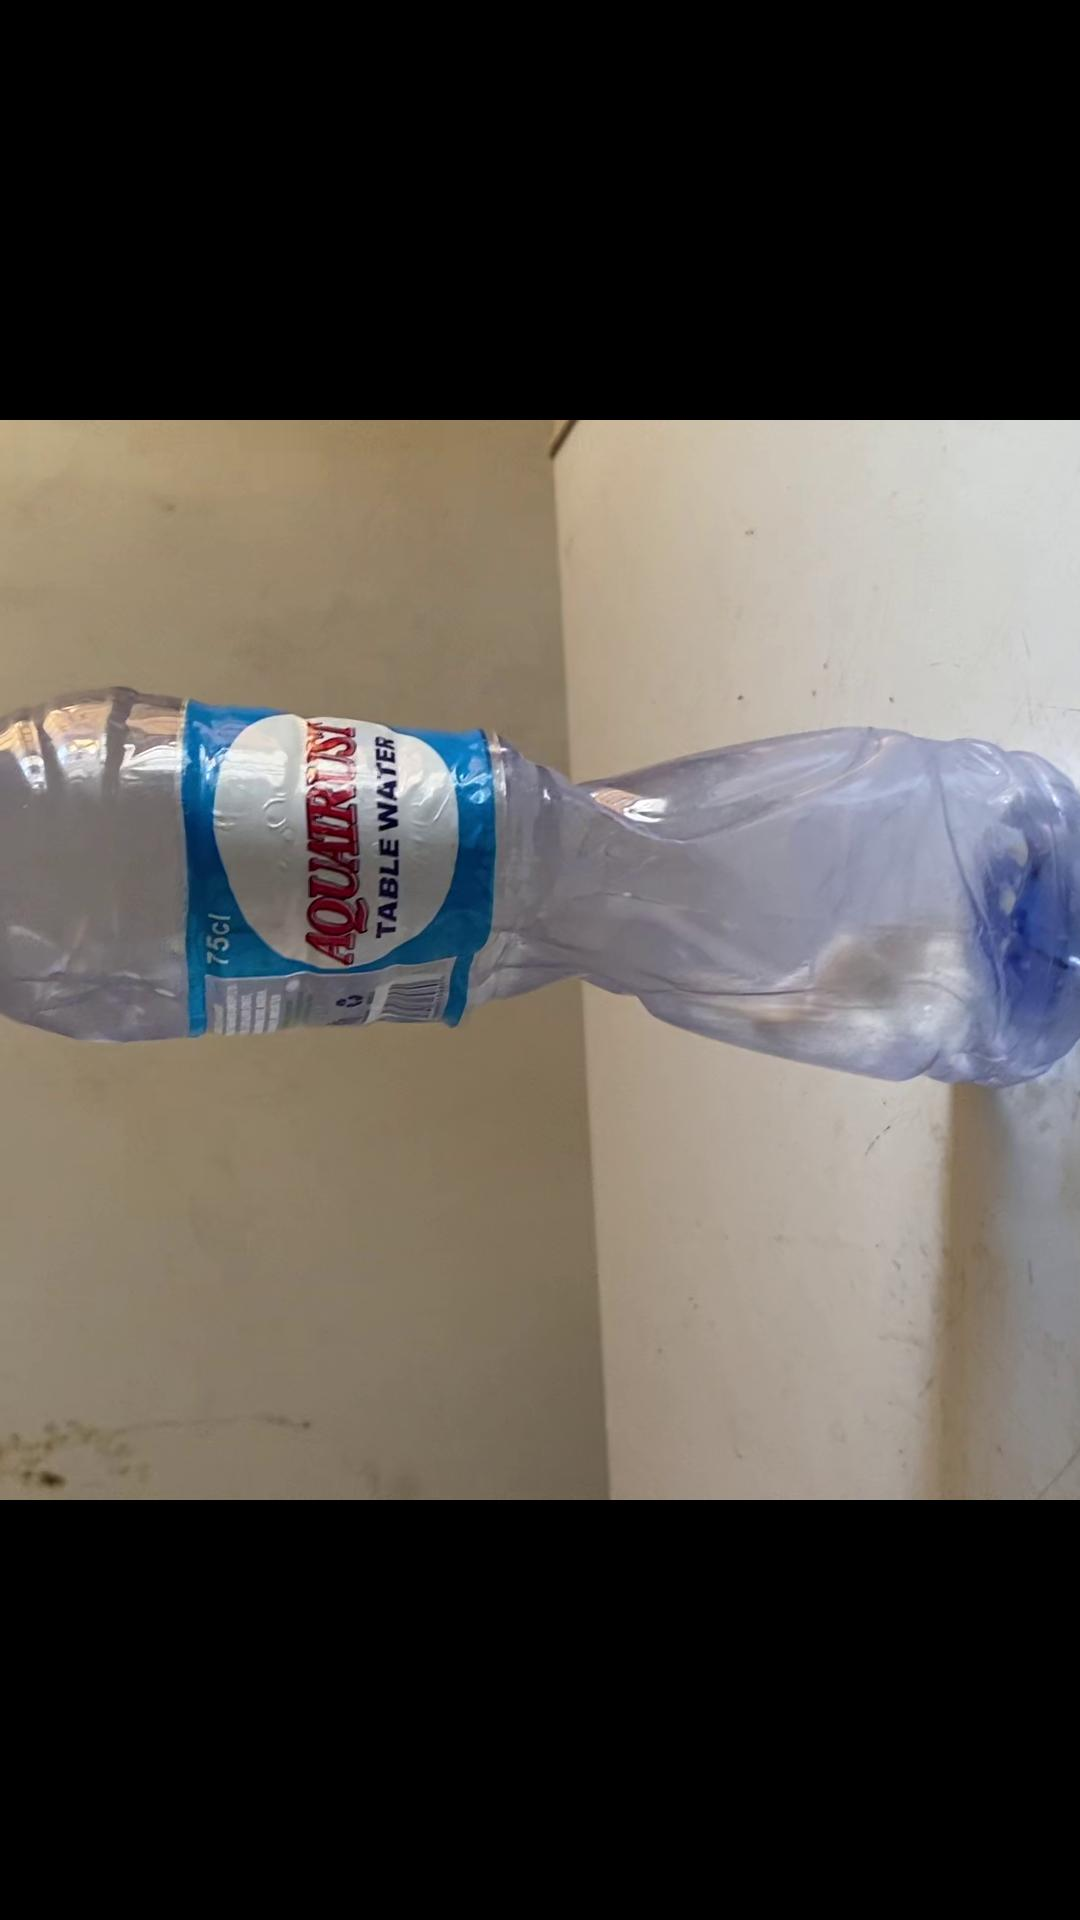crumbled: (0, 670, 1080, 1089)
label: (185, 716, 491, 1036)
